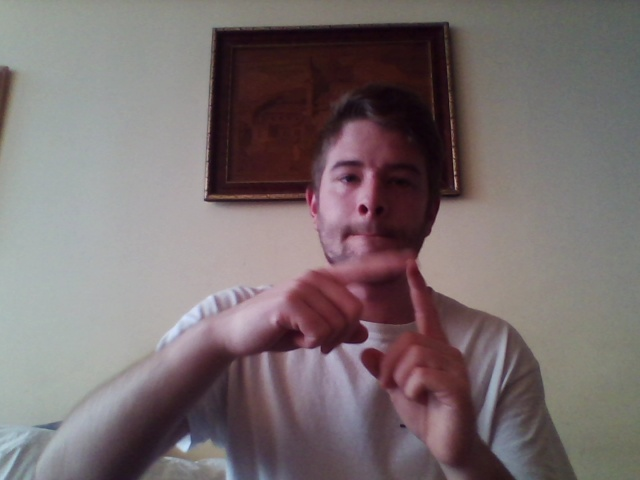kad: (219, 250, 479, 463)
